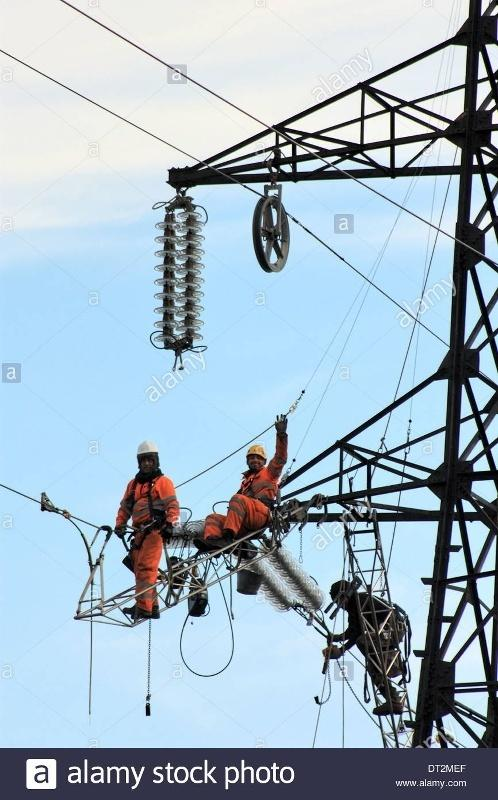power_tower: (123, 1, 494, 745)
